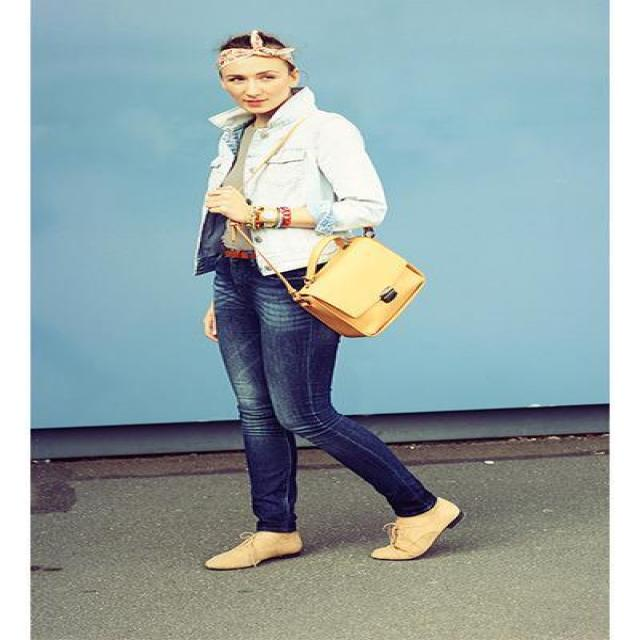bag: (288, 237, 424, 335)
jacket: (197, 89, 386, 286)
pants: (195, 250, 435, 532)
shoe: (211, 497, 458, 566)
